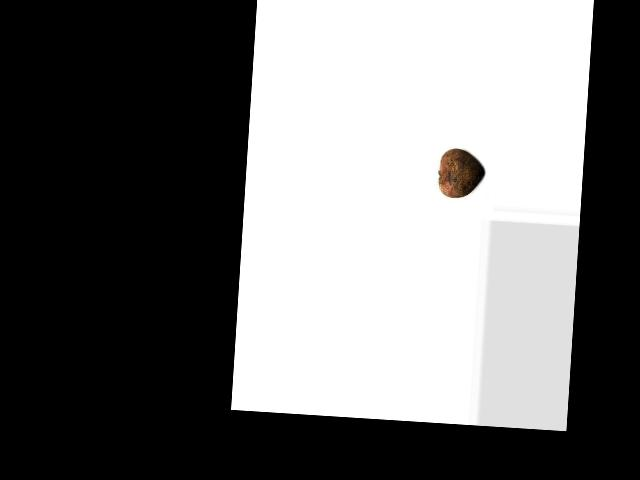beet: (437, 147, 485, 200)
